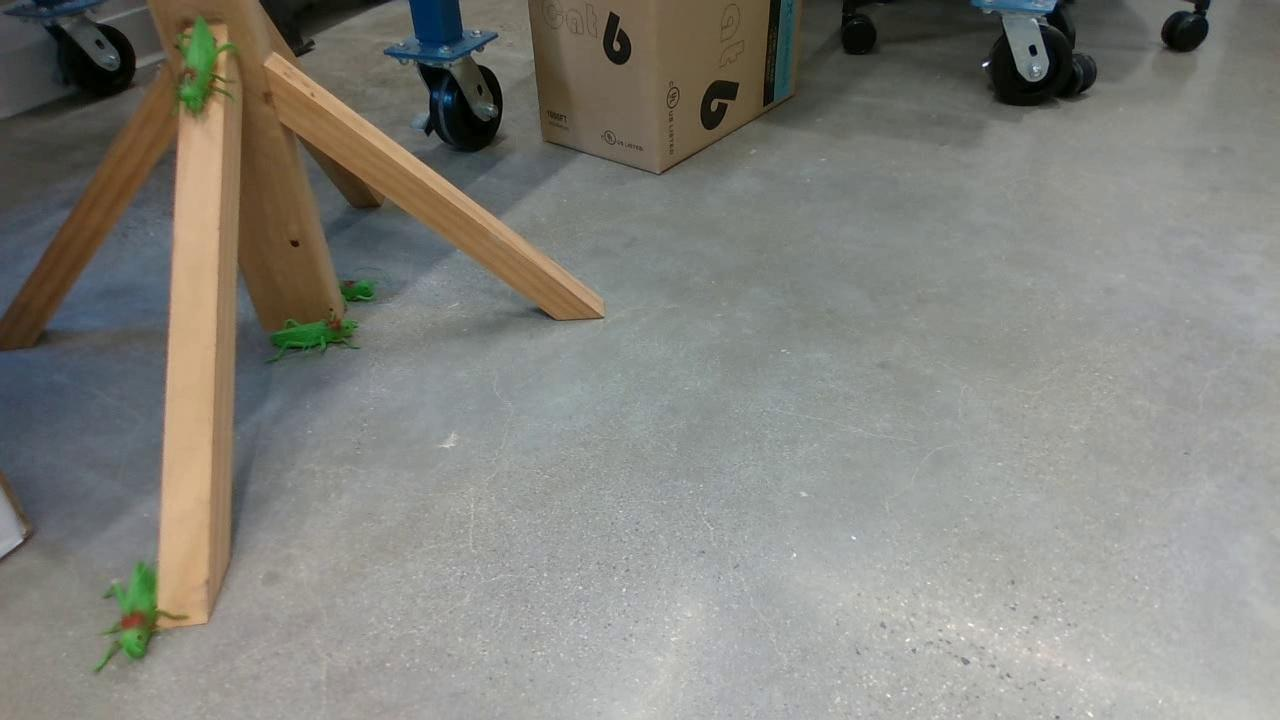grasshopper: (158, 9, 238, 117), (94, 566, 183, 661), (250, 311, 375, 358), (319, 275, 379, 302)
